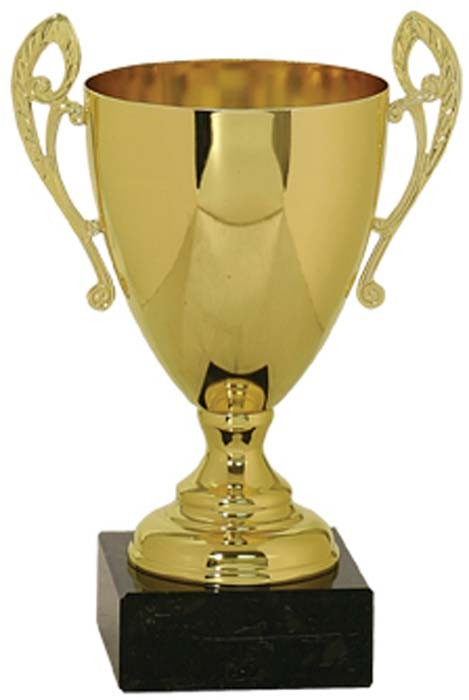trophy: (5, 10, 466, 697)
